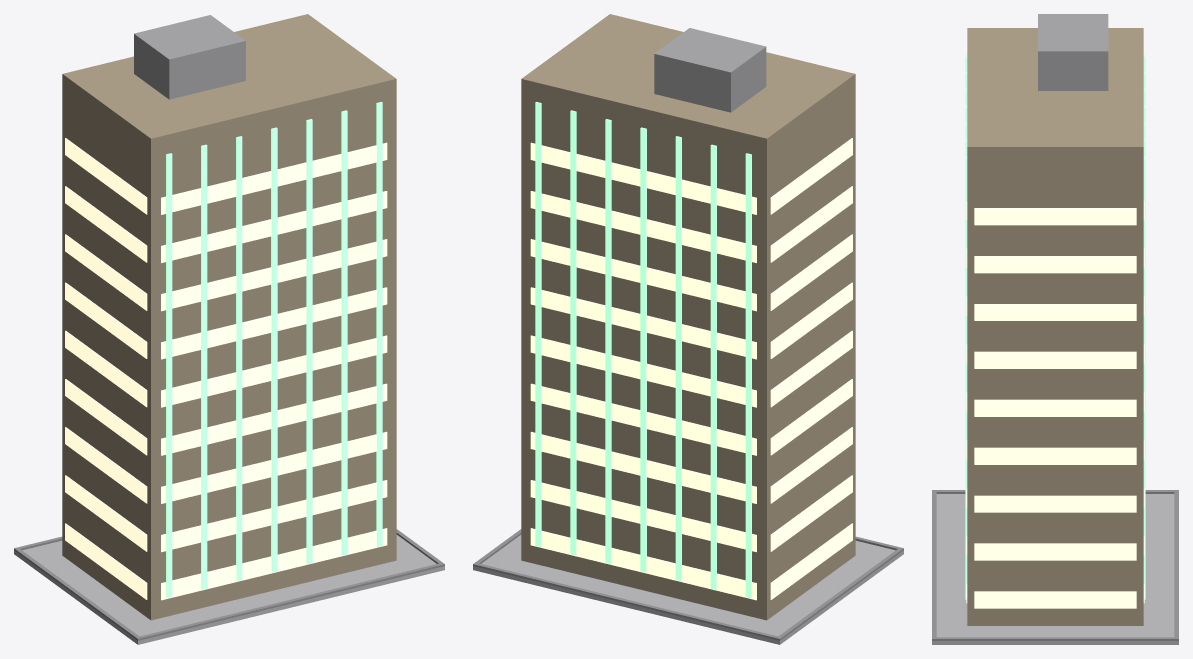
The model's file is bt-commercial-tower-2b.glb.
3 views of the same model, side by side, from view 1: azimuth 30°, elevation 25°; view 2: azimuth 150°, elevation 25°; view 3: azimuth 270°, elevation 25° (orthographic).
Visible parts, largest first — view 1: body, skirt_slab, roofbox, win_s_0, win_s_1, win_s_7, win_s_4, win_s_2, win_s_3, win_s_5, win_s_6, win_s_8 (+18 smaller); view 2: body, skirt_slab, roofbox, win_n_0, win_n_1, win_n_7, win_n_4, win_n_2, win_n_3, win_n_5, win_n_6, win_n_8 (+18 smaller); view 3: body, skirt_slab, roofbox, win_e_0, win_e_1, win_e_2, win_e_3, win_e_4, win_e_5, win_e_7, win_e_8, win_e_6 (+5 smaller).
Boxes of the visible parts, x1,y1,x2,y2 form: body: [62, 14, 396, 620]; skirt_slab: [14, 535, 444, 644]; roofbox: [134, 15, 245, 99]; win_s_0: [161, 528, 387, 600]; win_s_1: [161, 480, 387, 552]; win_s_7: [161, 191, 387, 262]; win_s_4: [161, 335, 387, 407]; win_s_2: [161, 431, 387, 503]; win_s_3: [161, 383, 387, 455]; win_s_5: [161, 287, 387, 359]; win_s_6: [161, 239, 387, 311]; win_s_8: [161, 142, 387, 214]; body: [521, 14, 855, 620]; skirt_slab: [473, 535, 903, 644]; roofbox: [654, 28, 766, 112]; win_n_0: [530, 528, 756, 600]; win_n_1: [530, 480, 756, 552]; win_n_7: [530, 191, 756, 262]; win_n_4: [530, 335, 756, 407]; win_n_2: [530, 431, 756, 503]; win_n_3: [530, 383, 756, 455]; win_n_5: [530, 287, 756, 359]; win_n_6: [530, 239, 756, 311]; win_n_8: [530, 142, 756, 214]; body: [967, 28, 1143, 625]; skirt_slab: [932, 494, 1178, 644]; roofbox: [1038, 14, 1108, 90]; win_e_0: [974, 591, 1136, 608]; win_e_1: [974, 543, 1136, 560]; win_e_2: [974, 495, 1136, 512]; win_e_3: [974, 447, 1136, 464]; win_e_4: [974, 399, 1136, 416]; win_e_5: [974, 351, 1136, 368]; win_e_7: [974, 256, 1136, 273]; win_e_8: [974, 208, 1136, 225]; win_e_6: [974, 304, 1136, 320].
Bounding box in the file's own units: 20 × 32.75 × 14.
